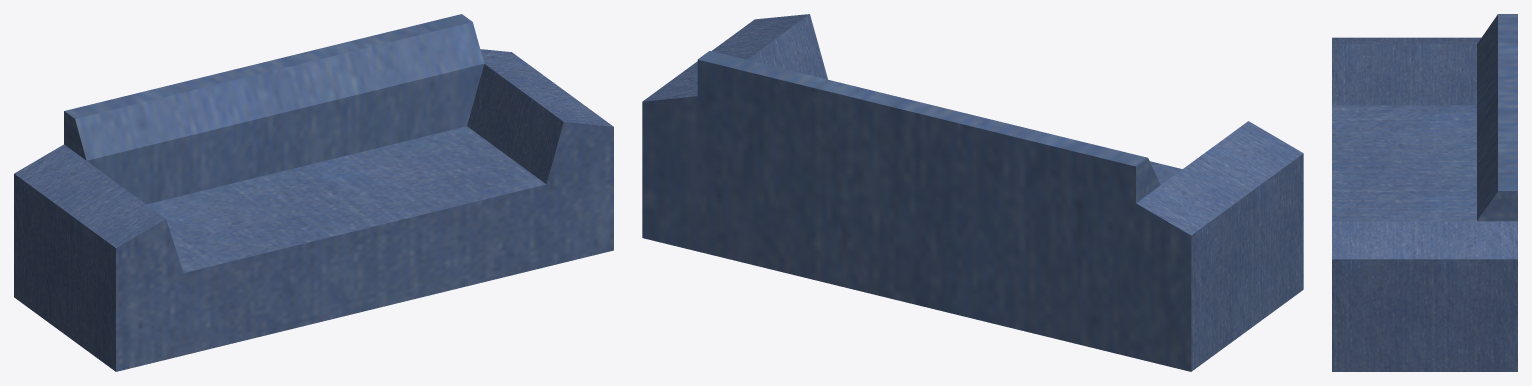
File: Couch_Long_Blue.fbx
The picture shows the model from 3 angles, left to right: view 1: azimuth 30°, elevation 25°; view 2: azimuth 150°, elevation 25°; view 3: azimuth 270°, elevation 25°; orthographic projection. The views are drawn at different scales.
Visible parts, largest first — view 1: Couch_Long_Blue_1; view 2: Couch_Long_Blue_1; view 3: Couch_Long_Blue_1.
Part boxes in pixels (x1=…): Couch_Long_Blue_1: x1=14, y1=14, x2=613, y2=371; Couch_Long_Blue_1: x1=642, y1=14, x2=1303, y2=371; Couch_Long_Blue_1: x1=1332, y1=14, x2=1517, y2=371.
Bounding box in the file's own units: 336 × 112 × 119.
